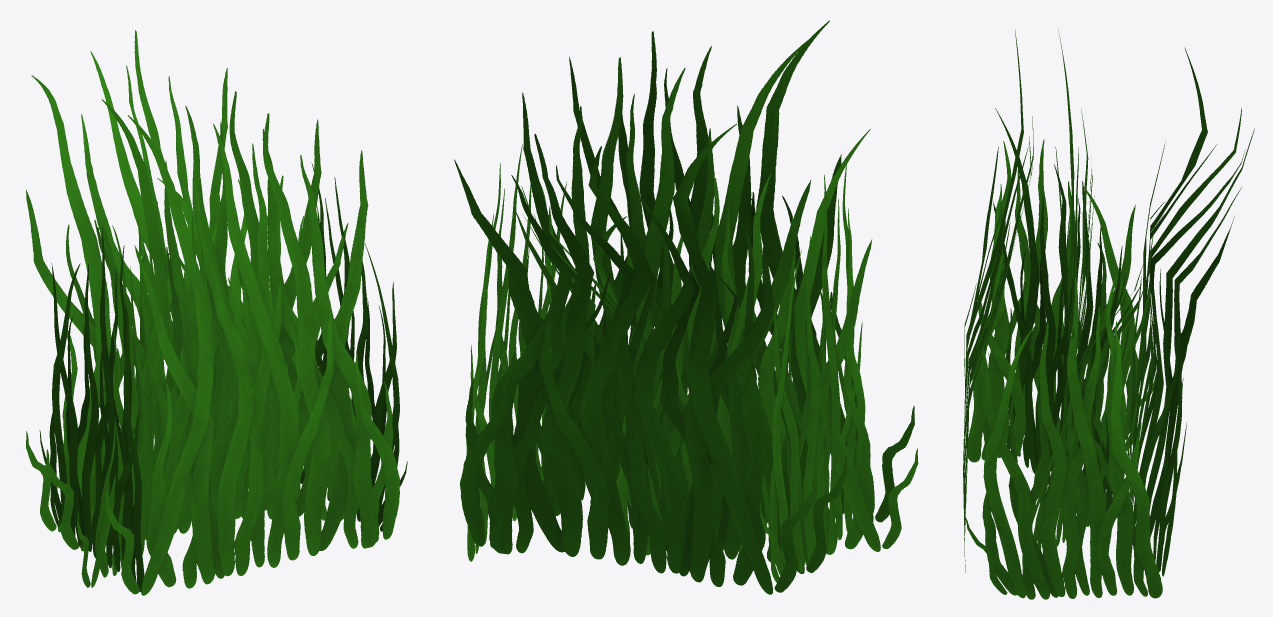
Rendered from Grass1.fbx.
3 views of the same model, side by side, from view 1: azimuth 30°, elevation 25°; view 2: azimuth 150°, elevation 25°; view 3: azimuth 270°, elevation 25° (orthographic). The views are drawn at different scales.
Visible parts, largest first — view 1: Plane_Stylized25; view 2: Plane_Stylized25; view 3: Plane_Stylized25.
Boxes of the visible parts, x1,y1,x2,y2 form: Plane_Stylized25: [26, 30, 407, 595]; Plane_Stylized25: [454, 20, 918, 594]; Plane_Stylized25: [963, 29, 1254, 599].
Bounding box in the file's own units: 8.56 × 12.01 × 6.97.
